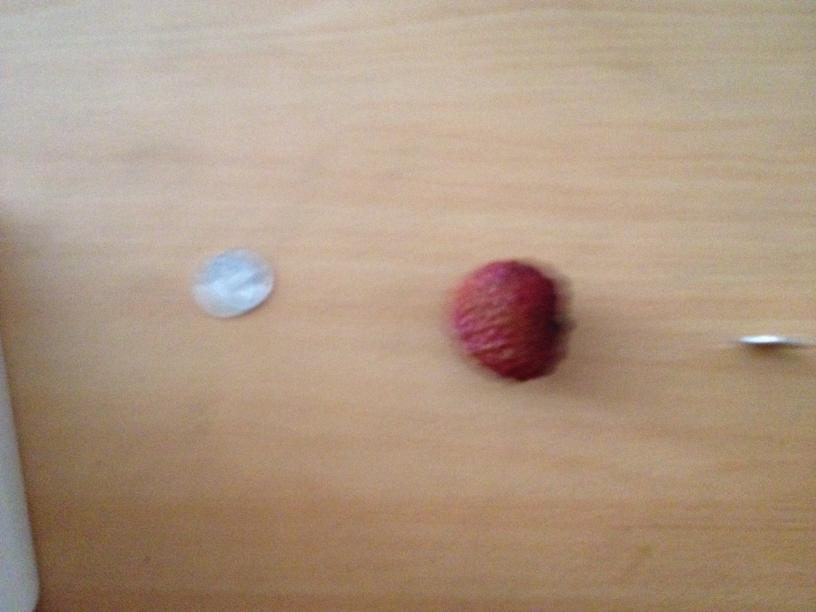coin: (204, 247, 273, 311)
litchi: (447, 260, 564, 381)
